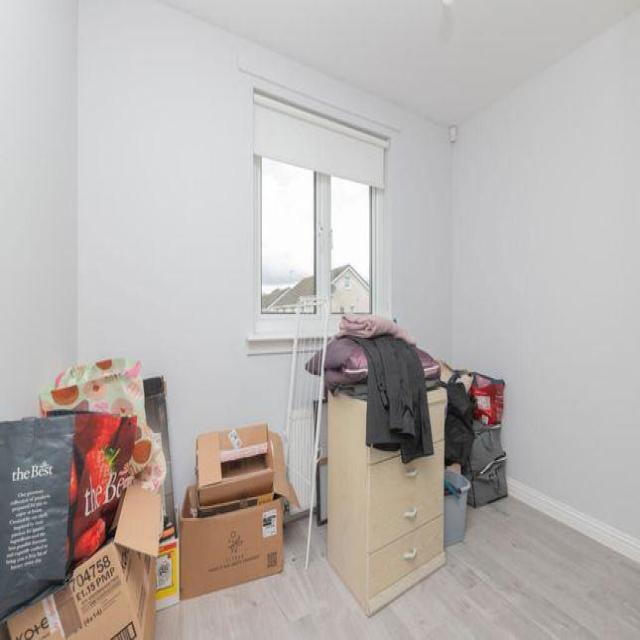Wall: (77, 2, 290, 500), (451, 11, 640, 550), (155, 497, 640, 639), (165, 1, 640, 125), (0, 0, 77, 419), (387, 109, 451, 353)
